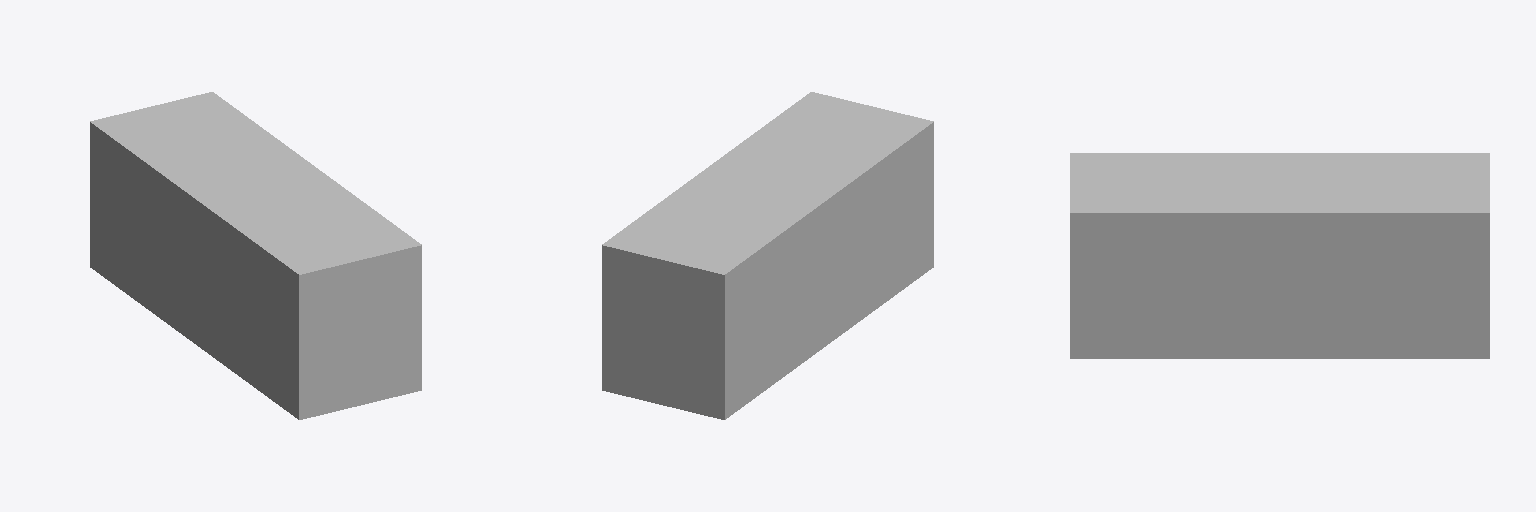
File: SM_Prop_Container_03.obj
The picture shows the model from 3 angles: view 1: azimuth 30°, elevation 25°; view 2: azimuth 150°, elevation 25°; view 3: azimuth 270°, elevation 25°; orthographic projection.
Visible parts, largest first — view 1: SM_Prop_Container_03:Mesh; view 2: SM_Prop_Container_03:Mesh; view 3: SM_Prop_Container_03:Mesh.
Part boxes in pixels (x1,y1,x2,y2): SM_Prop_Container_03:Mesh: (90, 92, 421, 419); SM_Prop_Container_03:Mesh: (602, 92, 933, 419); SM_Prop_Container_03:Mesh: (1070, 153, 1489, 358).
Size of the model in its own units: 4.16 by 4.69 by 12.28.